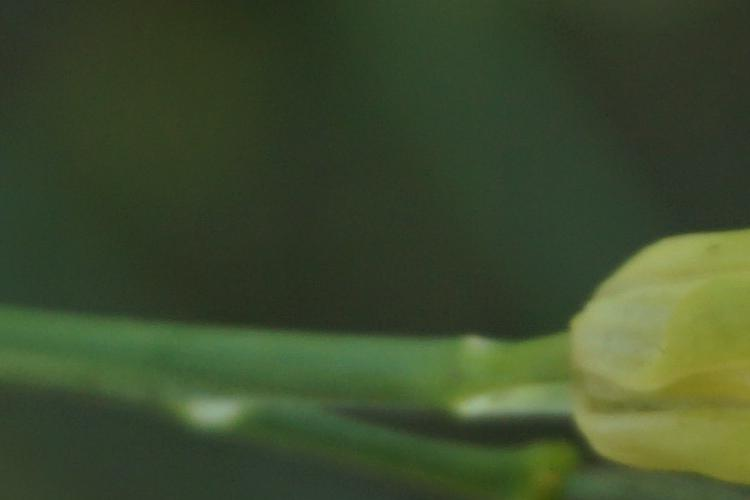yellow: (572, 236, 750, 488)
